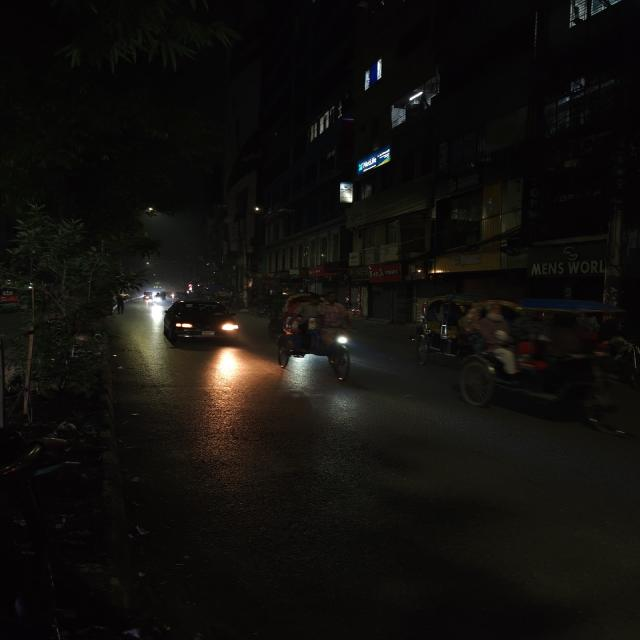car: (157, 297, 245, 353)
cng: (141, 291, 153, 303)
pedestrian: (113, 294, 128, 315)
rickshaw: (426, 292, 639, 443), (271, 291, 369, 383)
